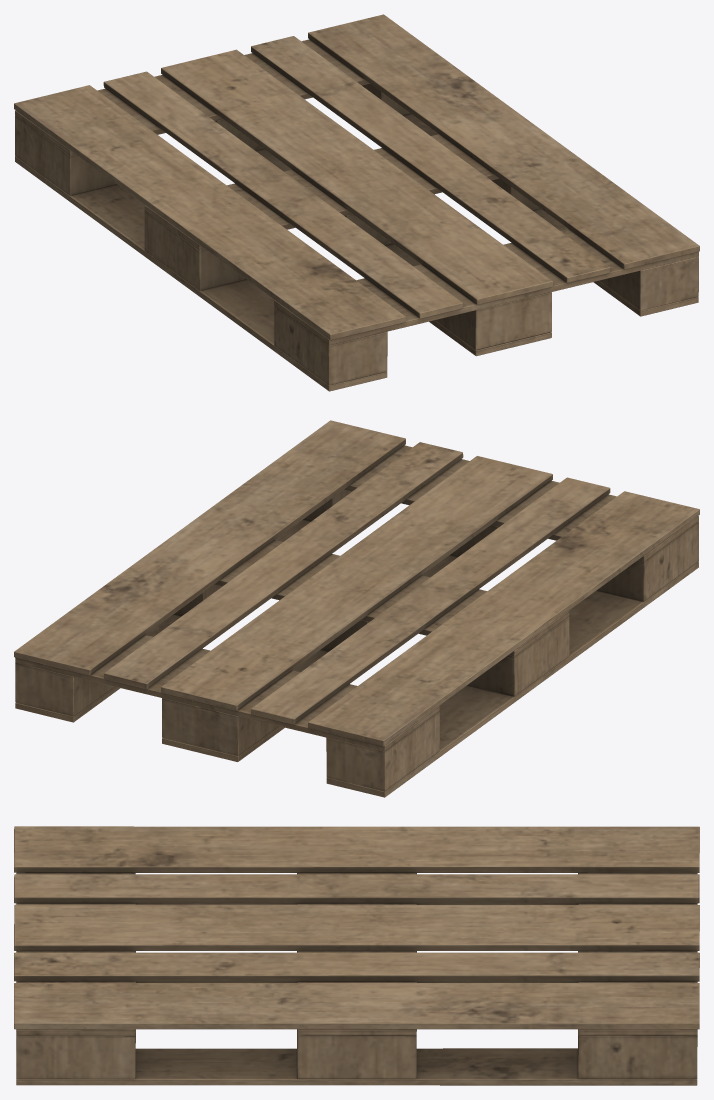
Rendered from Pallet.fbx.
3 renders of one model, top to bottom at view 1: azimuth 30°, elevation 25°; view 2: azimuth 150°, elevation 25°; view 3: azimuth 270°, elevation 25°, orthographic. The views are drawn at different scales.
Parts seen in each view (by area): view 1: Pallet_LOD0; view 2: Pallet_LOD0; view 3: Pallet_LOD0.
Part boxes in pixels (x1,y1,x2,y2): Pallet_LOD0: (14,14,699,391); Pallet_LOD0: (14,420,699,797); Pallet_LOD0: (14,826,699,1085).
Bounding box in the file's own units: 80.78 × 12.29 × 120.
